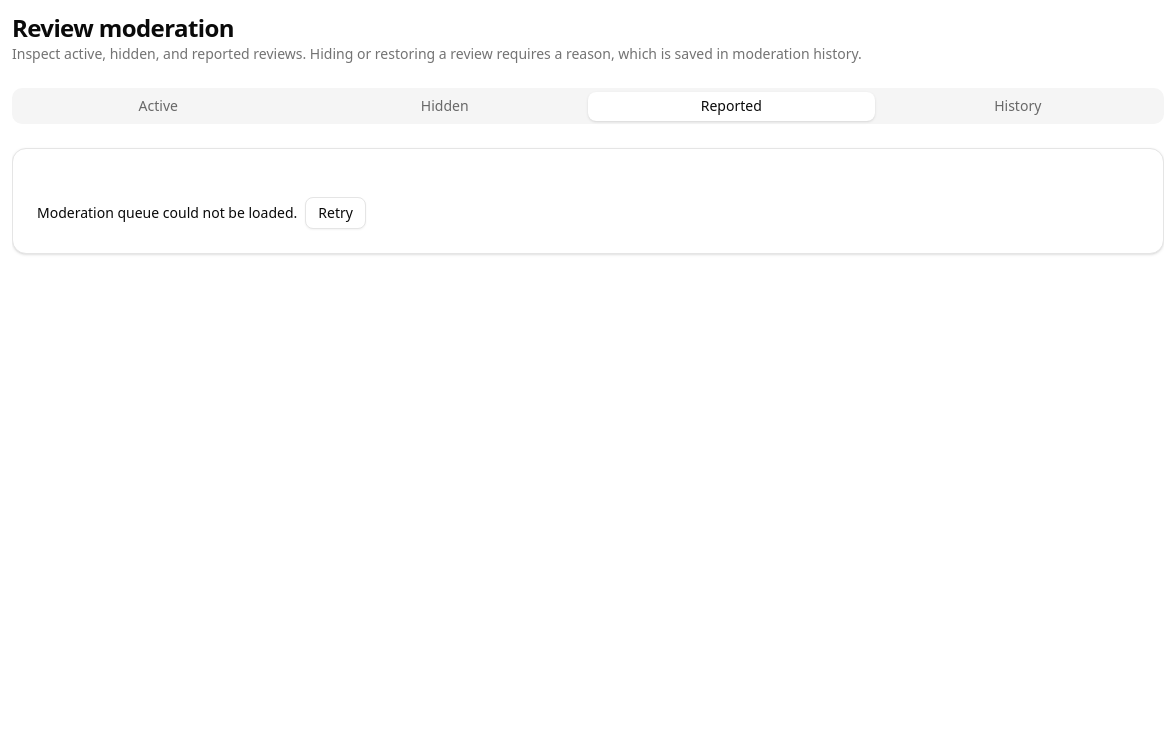
actual moderation route surface › recovers queue query through visible retry
Check: the message shows "Moderation queue could not be loaded", box x1=37 y1=203 x2=297 y2=222
Step 1. Click the button "Retry" → [336, 213], box x1=305 y1=197 x2=366 y2=229
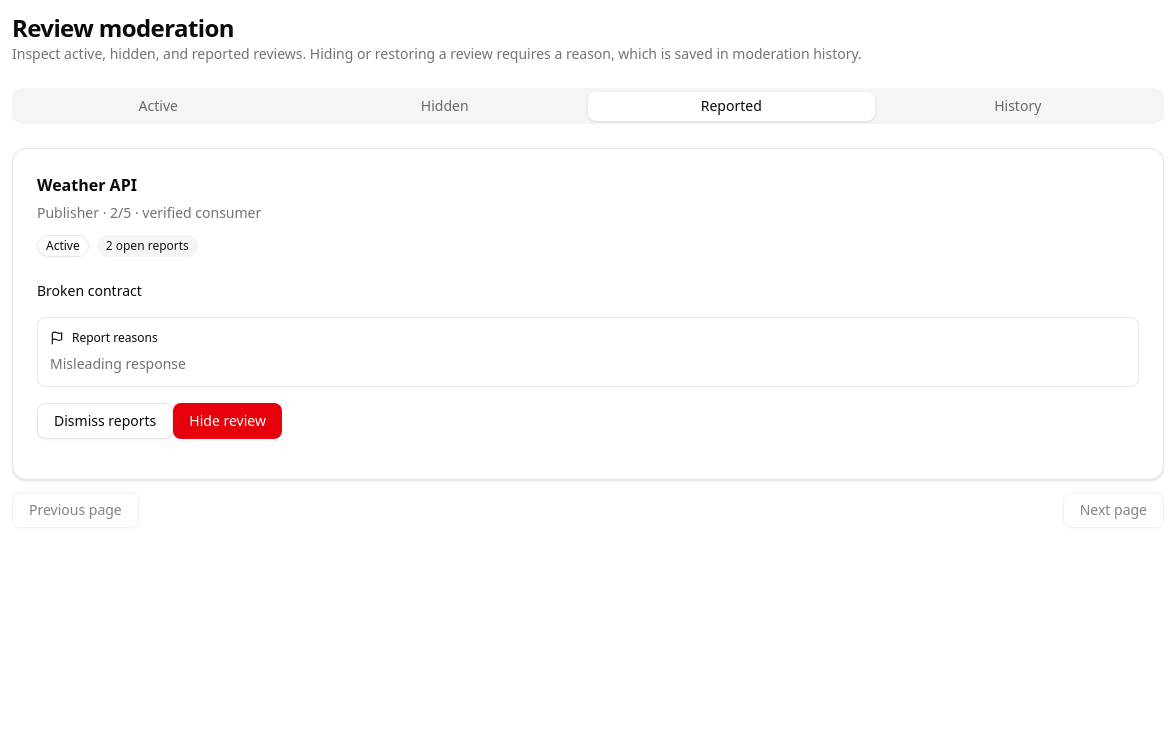
Check: the text "Broken contract" is shown, box x1=37 y1=281 x2=142 y2=300
Check: the text "2 open reports" is shown, box x1=97 y1=235 x2=198 y2=257
